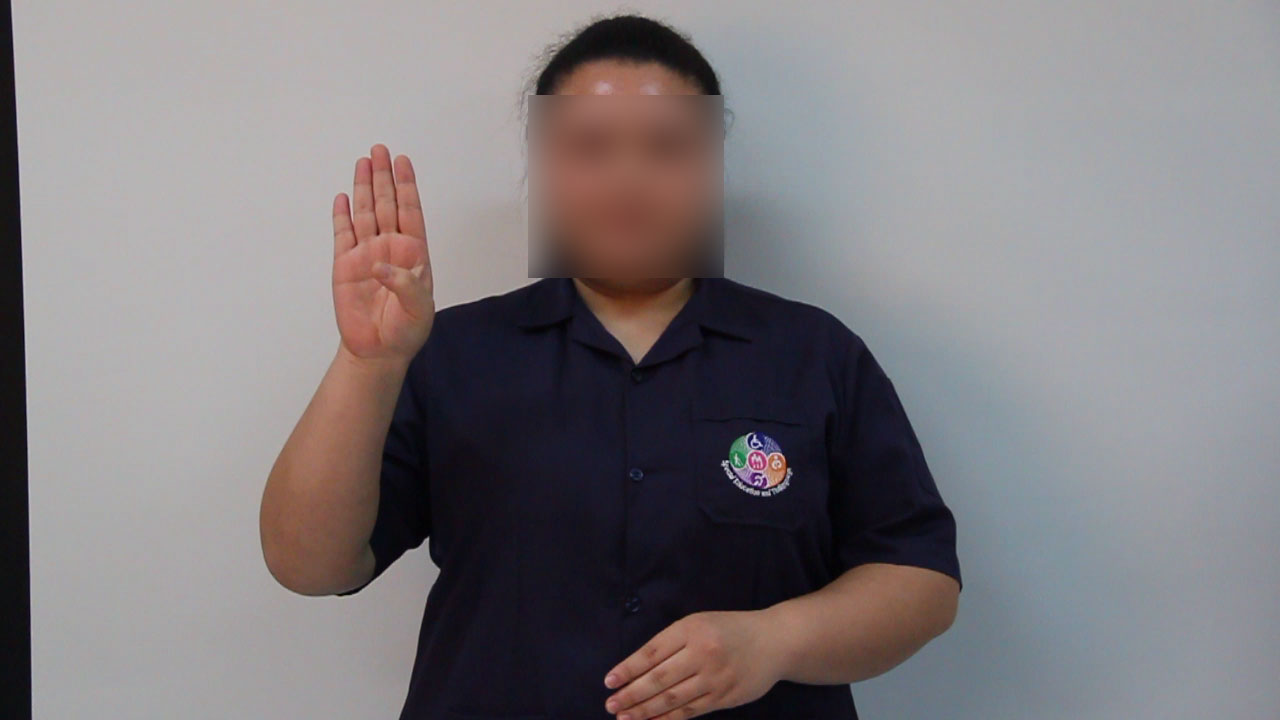bor: (321, 127, 449, 394)
